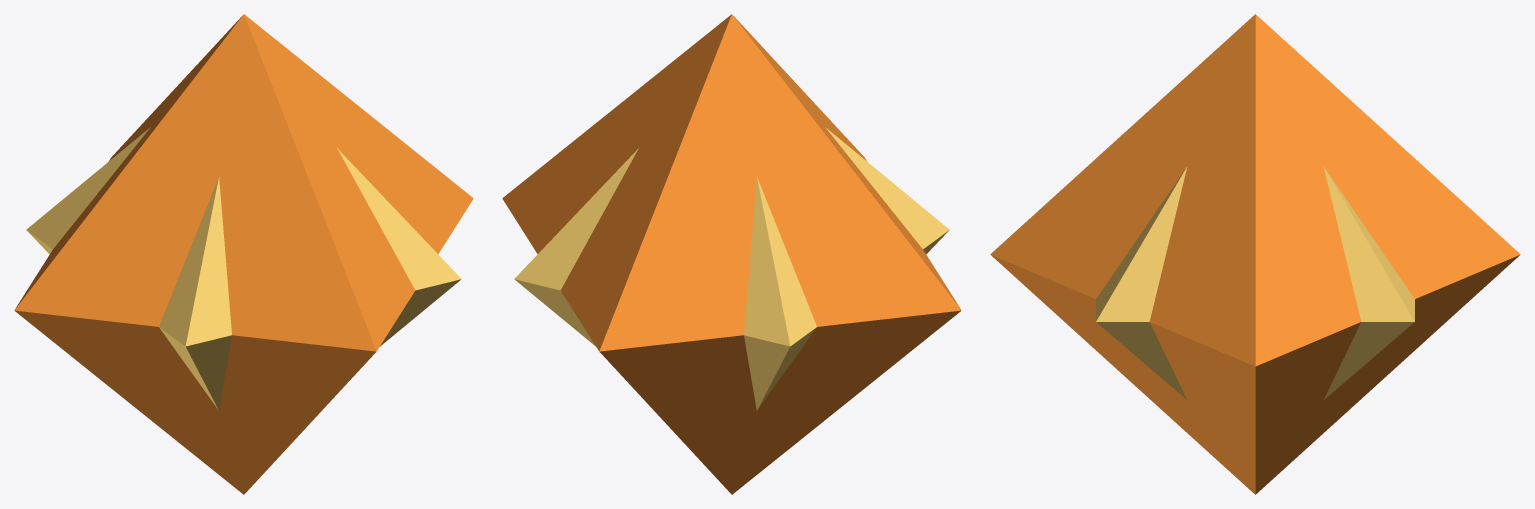
The model's file is pyro_ember.glb.
3 views of the same model, side by side, from view 1: azimuth 30°, elevation 25°; view 2: azimuth 150°, elevation 25°; view 3: azimuth 270°, elevation 25° (orthographic).
Parts seen in each view (by area): view 1: pyro_ember; view 2: pyro_ember; view 3: pyro_ember.
Part boxes in pixels (bbox=[...]): pyro_ember: bbox=[14, 14, 473, 494]; pyro_ember: bbox=[502, 14, 961, 494]; pyro_ember: bbox=[990, 14, 1520, 494].
Size of the model in its own units: 2 by 2 by 2.
1 material, 1 textured.
